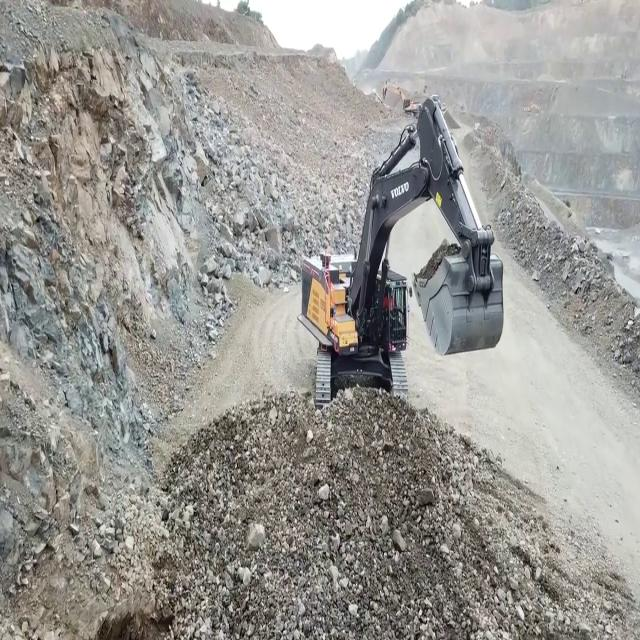excavator: (293, 86, 512, 410)
